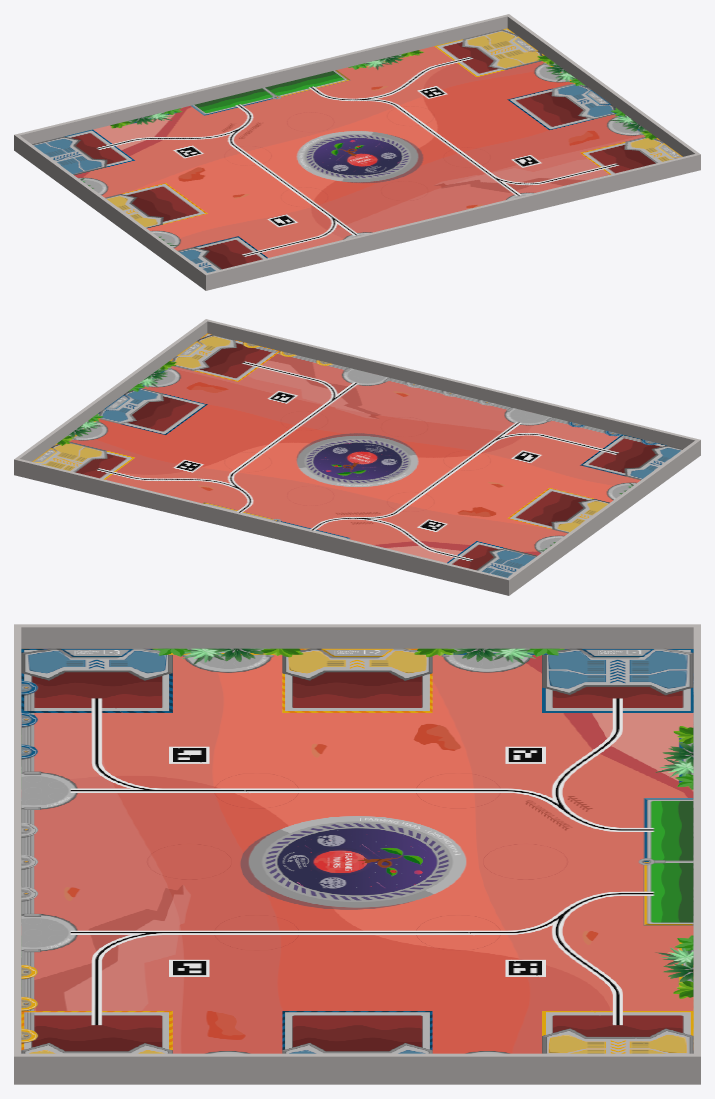
File: Table2024.dae
The picture shows the model from 3 angles, top to bottom: view 1: azimuth 30°, elevation 25°; view 2: azimuth 150°, elevation 25°; view 3: azimuth 270°, elevation 25°; orthographic projection. The views are drawn at different scales.
Parts seen in each view (by area): view 1: Table2024; view 2: Table2024; view 3: Table2024.
Boxes of the visible parts, x1,y1,x2,y2 form: Table2024: (14, 14, 700, 290); Table2024: (14, 319, 700, 595); Table2024: (14, 624, 700, 1084).
Size of the model in its own units: 3.04 by 2.04 by 0.092.
2 materials, 1 textured.
